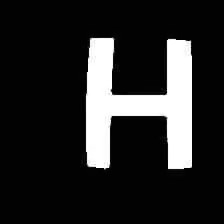LTR_H: (77, 24, 208, 178)
